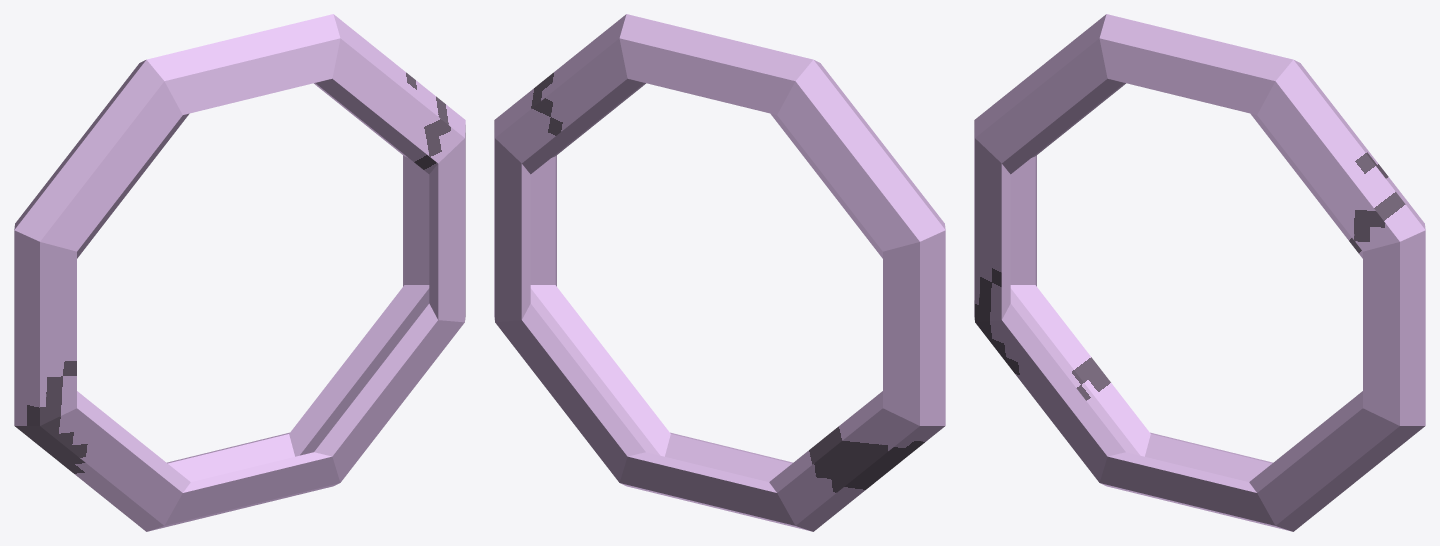
The model's file is marble_ring.gltf.
3 views of the same model, side by side, from view 1: azimuth 30°, elevation 25°; view 2: azimuth 150°, elevation 25°; view 3: azimuth 330°, elevation 25° (orthographic).
Visible parts, largest first — view 1: torus; view 2: torus; view 3: torus.
Boxes of the visible parts, x1=… form: torus: x1=14, y1=14, x2=465, y2=531; torus: x1=494, y1=14, x2=945, y2=531; torus: x1=974, y1=14, x2=1425, y2=531.
Size of the model in its own units: 0.5 by 0.5 by 0.0676.
1 material, 1 textured.
